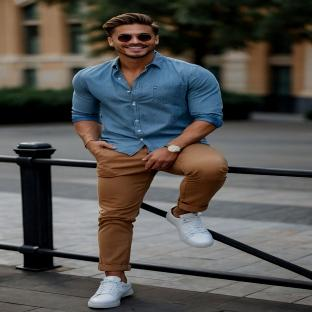Human: (72, 13, 228, 307)
